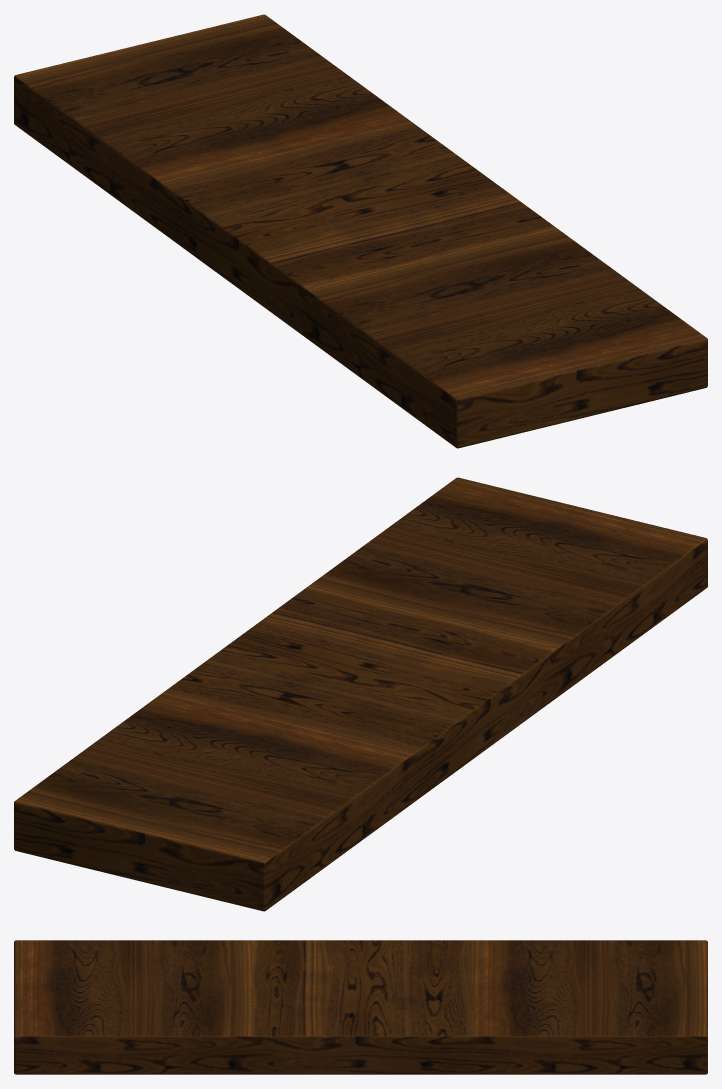
Rendered from Shelfmodel.glb.
The picture shows the model from 3 angles, top to bottom: view 1: azimuth 30°, elevation 25°; view 2: azimuth 150°, elevation 25°; view 3: azimuth 270°, elevation 25°; orthographic projection. The views are drawn at different scales.
Visible parts, largest first — view 1: Cube; view 2: Cube; view 3: Cube.
Part boxes in pixels (x1,y1,x2,y2): Cube: (14,14,707,448); Cube: (14,477,707,911); Cube: (14,940,707,1074).
Size of the model in its own units: 0.4 by 0.076 by 1.22.
Materials: 1 (1 with a texture image).
